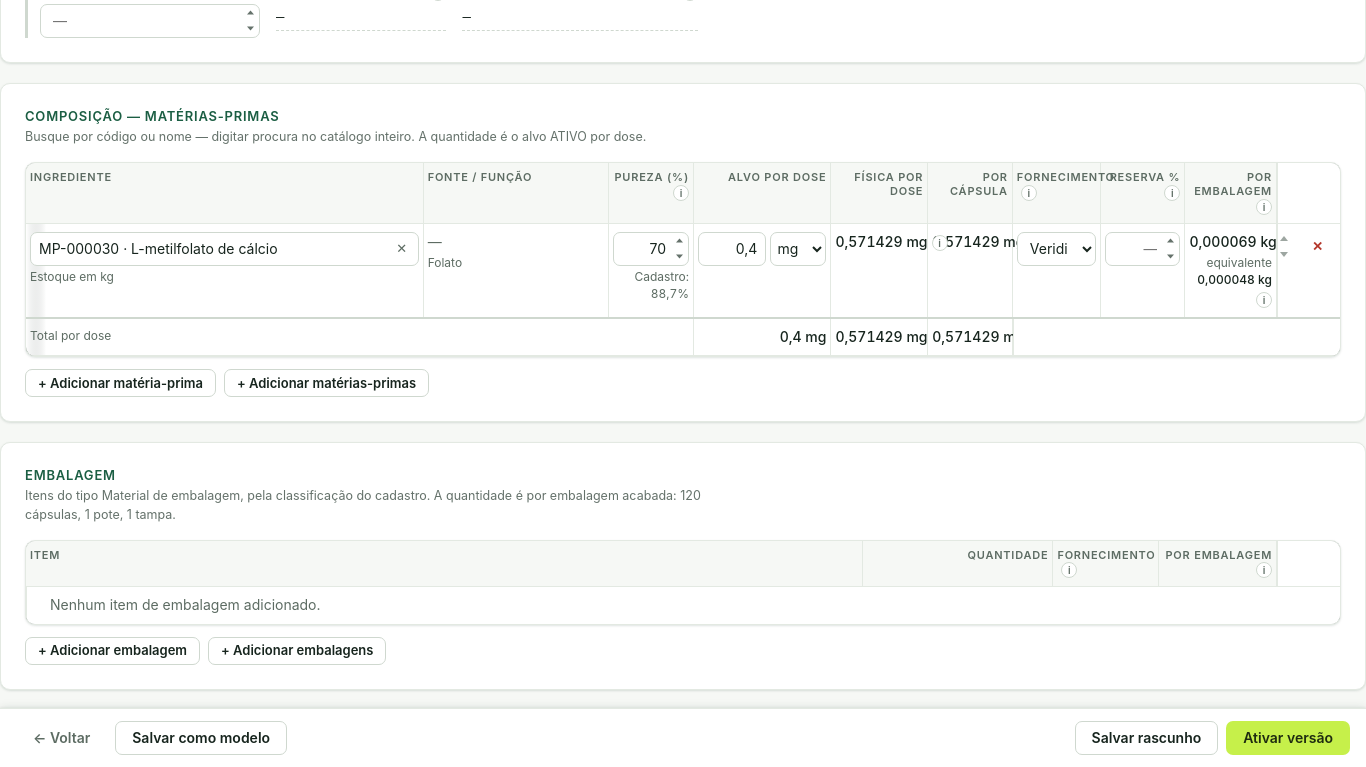
Formulação — Consultar itens na bancada › abre com o termo digitado e o recorte da matéria-prima, perguntado ao servidor
This screenshot has width=1366, height=767.
(page scrolled)
Click the button "+ Adicionar matéria-prima" at (120, 383), box [25,369,216,397]
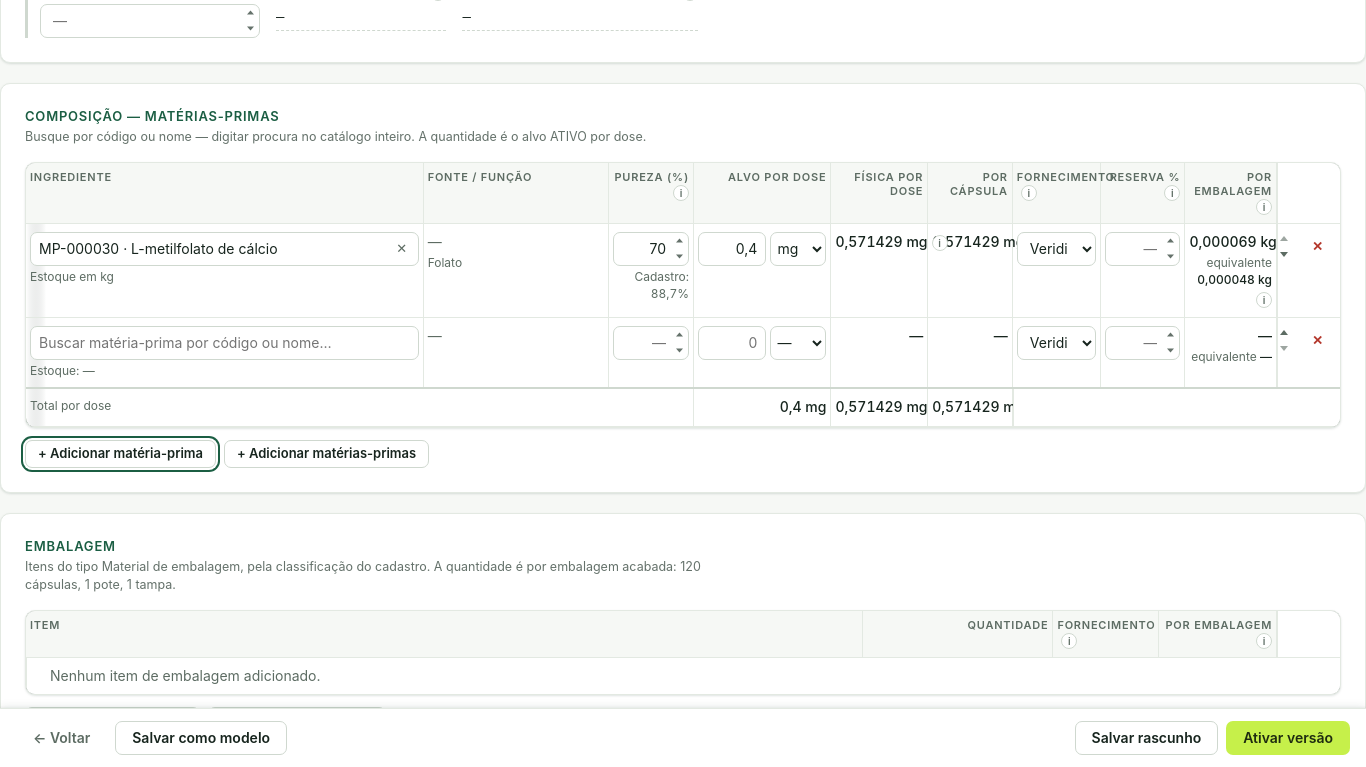
Type "ribof" into the dropdown with placeholder "Buscar matéria-prima por código ou nome…" at (224, 343), box [30,326,419,360]
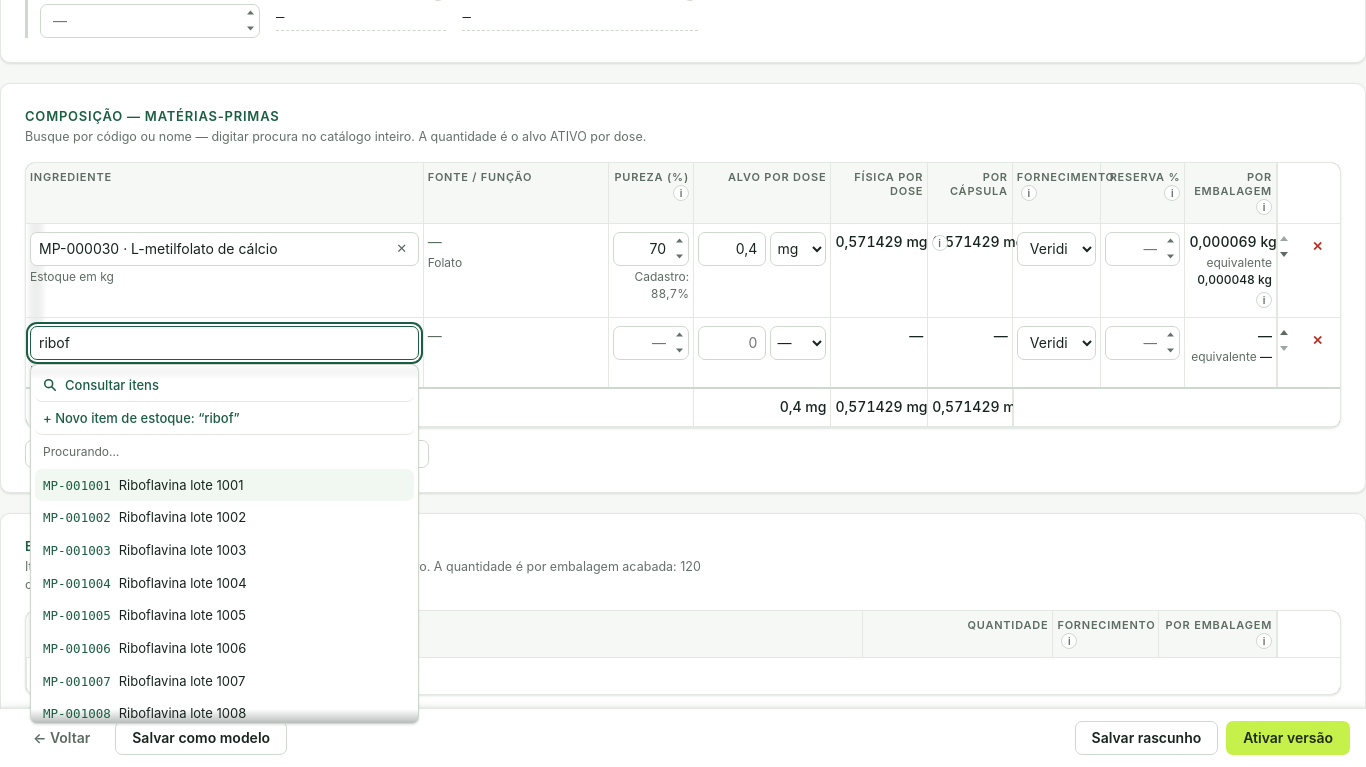
Expected: the list is shown, [30,364,419,724]
Click the option "Consultar itens" at (112, 385), box [35,369,414,402]
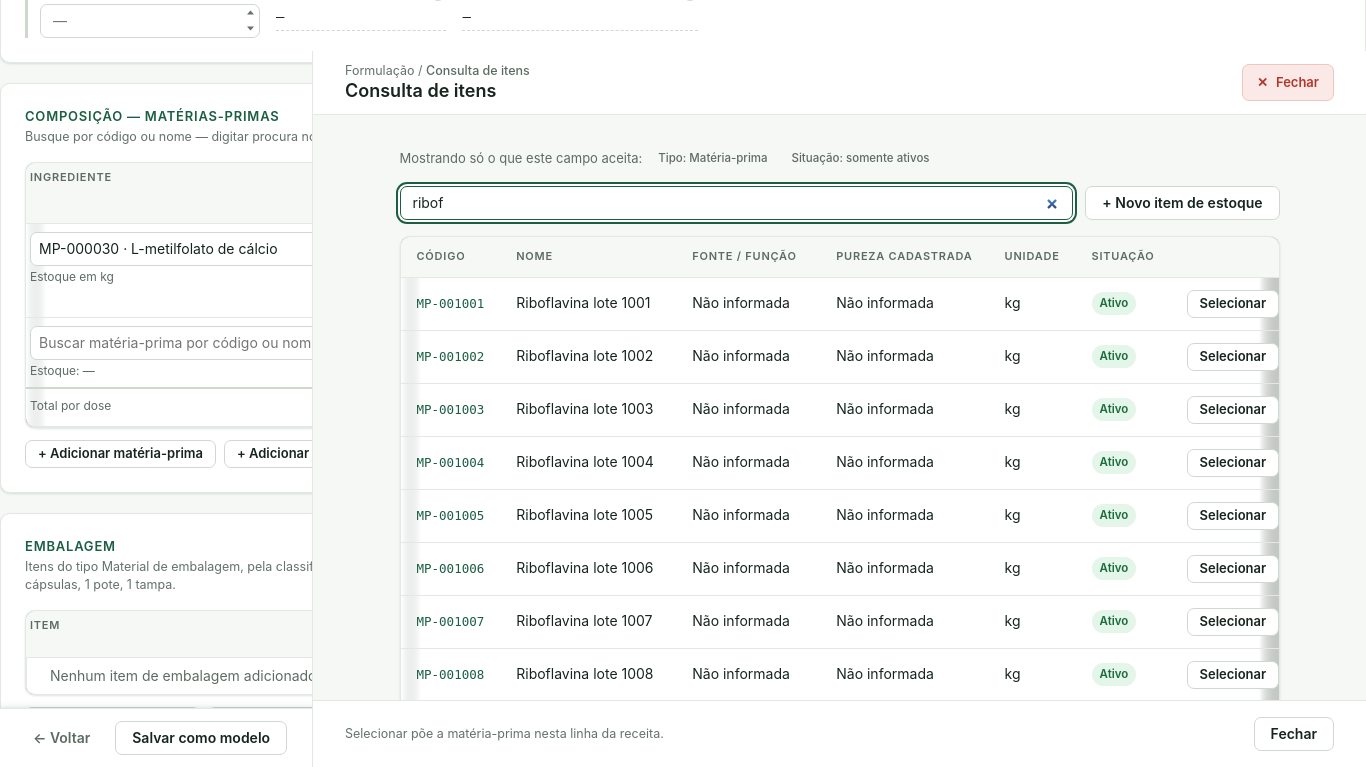
Expected: the search field named "Buscar itens" holds "ribof", [400,186,1073,220]
Expected: the text "Tipo: Matéria-prima" is shown, [650,147,776,170]
Expected: the text "Situação: somente ativos" is shown, [784,147,938,170]
